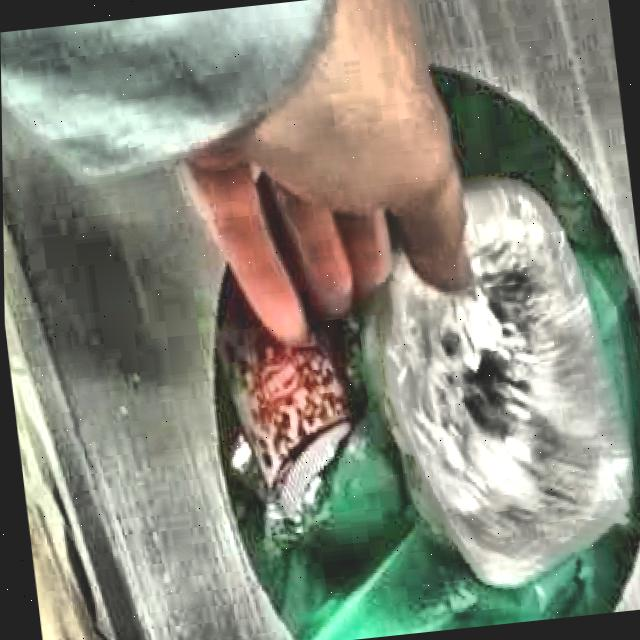metal: (361, 178, 629, 583)
